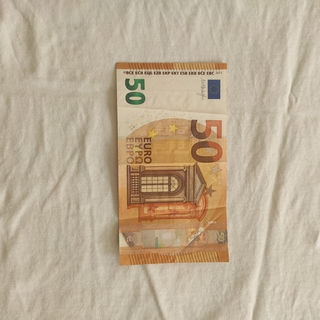50EUROFront: (114, 61, 231, 266)
